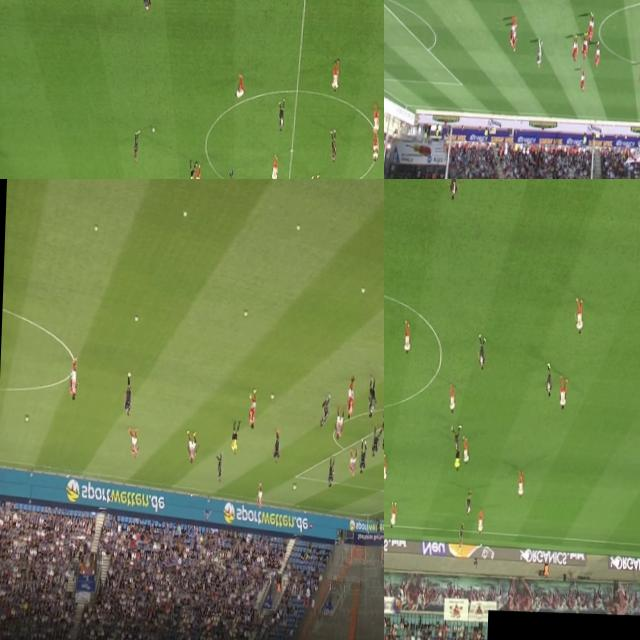ball: (151, 122, 155, 136), (243, 308, 249, 316), (24, 414, 28, 424), (182, 210, 187, 218), (270, 392, 274, 402), (93, 224, 97, 233), (134, 314, 138, 322), (296, 224, 300, 232), (362, 286, 366, 292), (292, 484, 296, 490)
player: (331, 56, 344, 95), (69, 356, 79, 402), (319, 392, 332, 426), (186, 429, 198, 462), (574, 298, 584, 337), (334, 406, 345, 440), (248, 387, 257, 428), (234, 76, 246, 106), (401, 318, 411, 354), (275, 103, 286, 135), (124, 370, 132, 414), (544, 359, 553, 398), (585, 8, 594, 46), (477, 334, 486, 372), (370, 102, 380, 136), (451, 424, 462, 454), (346, 377, 354, 418), (328, 128, 338, 160), (272, 430, 282, 462), (367, 378, 375, 418), (371, 128, 380, 162), (560, 374, 568, 412), (128, 428, 138, 458), (132, 125, 140, 162), (372, 428, 381, 458), (448, 384, 457, 414), (348, 450, 358, 476), (359, 440, 366, 476), (388, 500, 397, 528), (536, 38, 544, 68), (449, 179, 459, 203), (592, 42, 600, 70), (216, 454, 224, 482), (462, 437, 469, 467), (510, 28, 518, 54), (270, 157, 279, 179), (517, 470, 524, 498), (140, 0, 155, 13), (509, 20, 516, 46), (477, 508, 484, 534), (328, 457, 334, 487), (579, 69, 586, 94), (465, 491, 472, 516), (571, 36, 578, 60), (582, 32, 588, 60), (256, 484, 263, 508), (458, 524, 465, 546), (226, 166, 237, 179), (194, 160, 201, 179), (381, 415, 384, 451), (384, 455, 387, 481), (310, 171, 319, 179), (638, 58, 640, 87)
